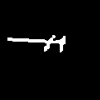double_crochet: (8, 35, 64, 51)
